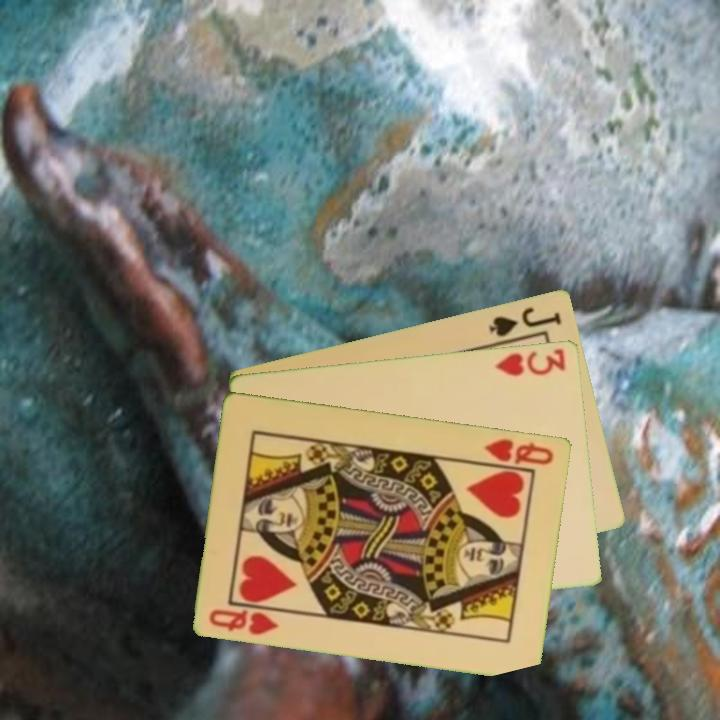3h: (491, 344, 569, 379)
Js: (485, 303, 565, 339)
Qh: (206, 601, 283, 638), (480, 434, 557, 468)
